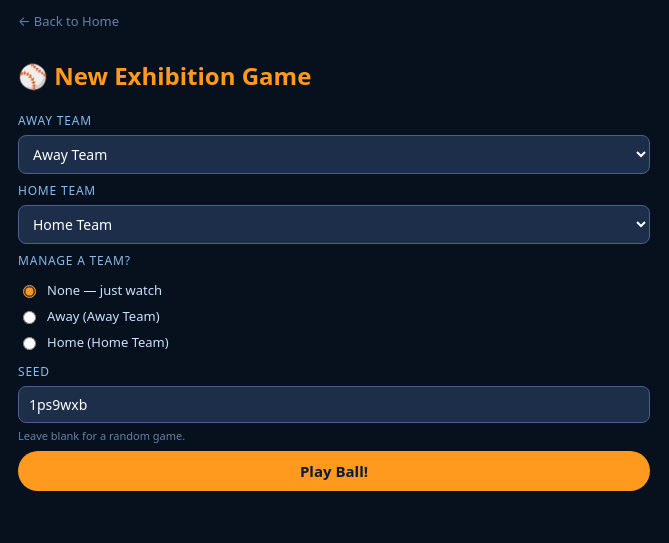
Test: ExhibitionSetupPage › managed team with no SP-eligible pitchers shows validation error
// Select "Away" as the managed team.
Click the radio button labelled "Away (Away Team)": coordinates (30, 318) [23,311,36,324]
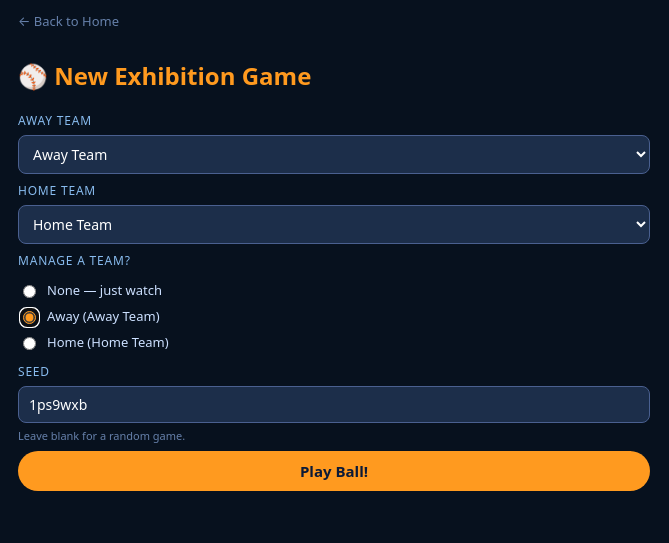
Click the button with test id "play-ball-button": coordinates (334, 471) [18,451,650,491]
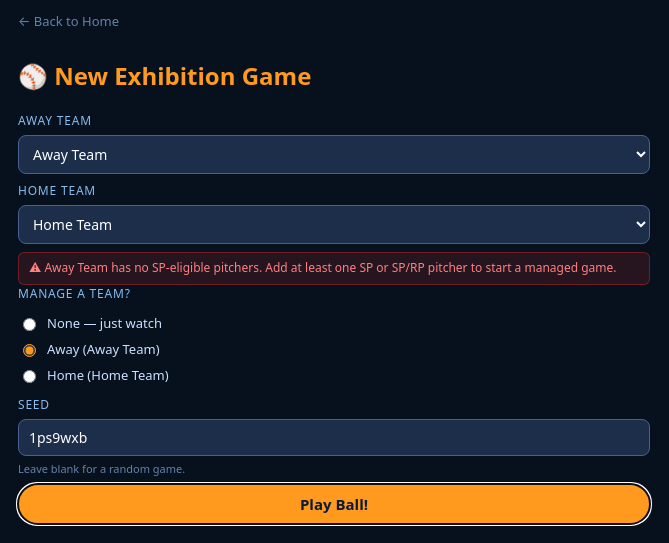
Expected: the message with test id "team-validation-error" shows "no SP-eligible pitchers", [44,259,616,276]
